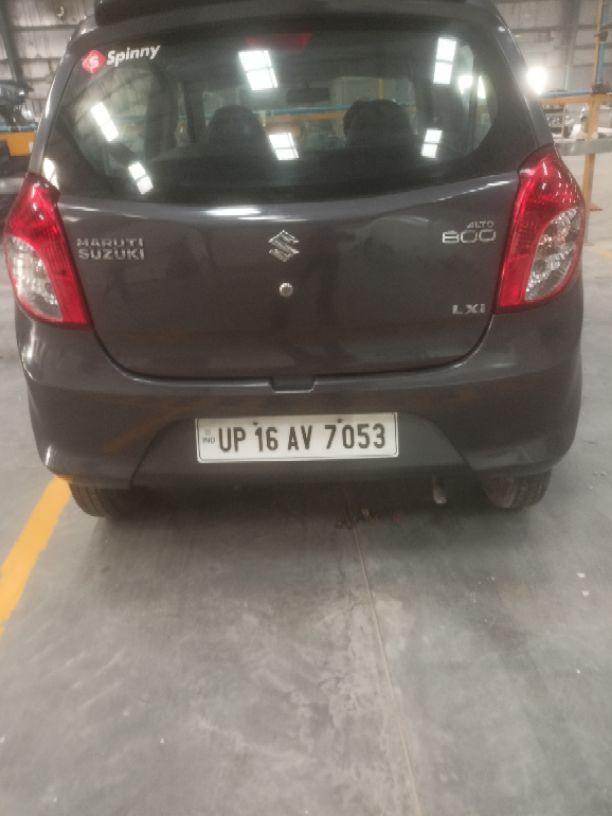license_plate: (193, 411, 400, 463)
